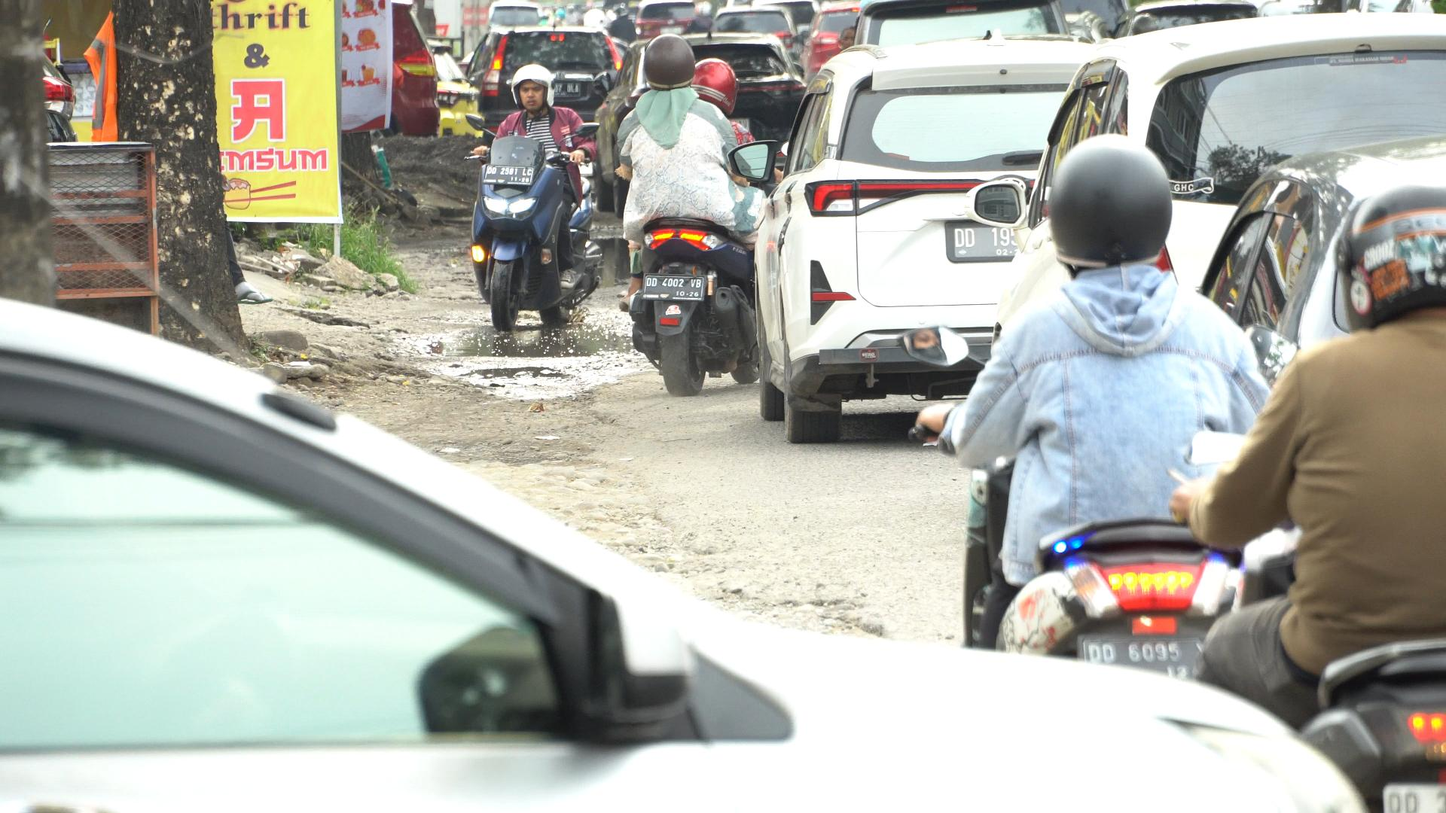number-plate: (479, 162, 535, 188)
